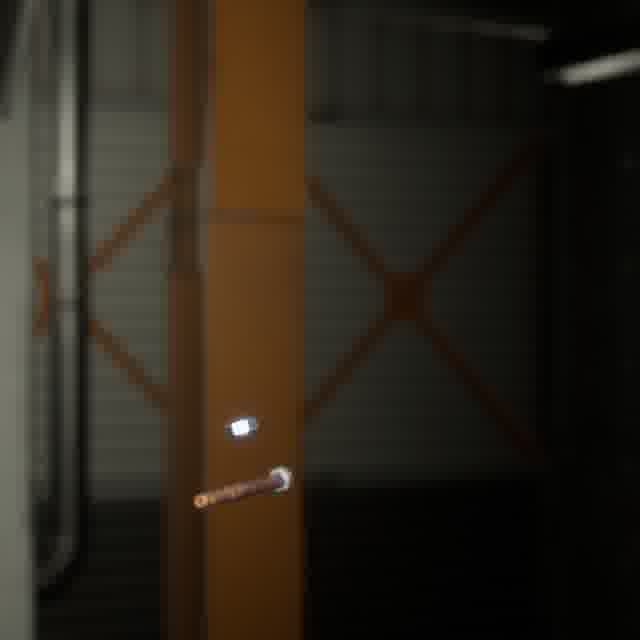bolt: (189, 461, 297, 513)
nut: (221, 412, 263, 442)
